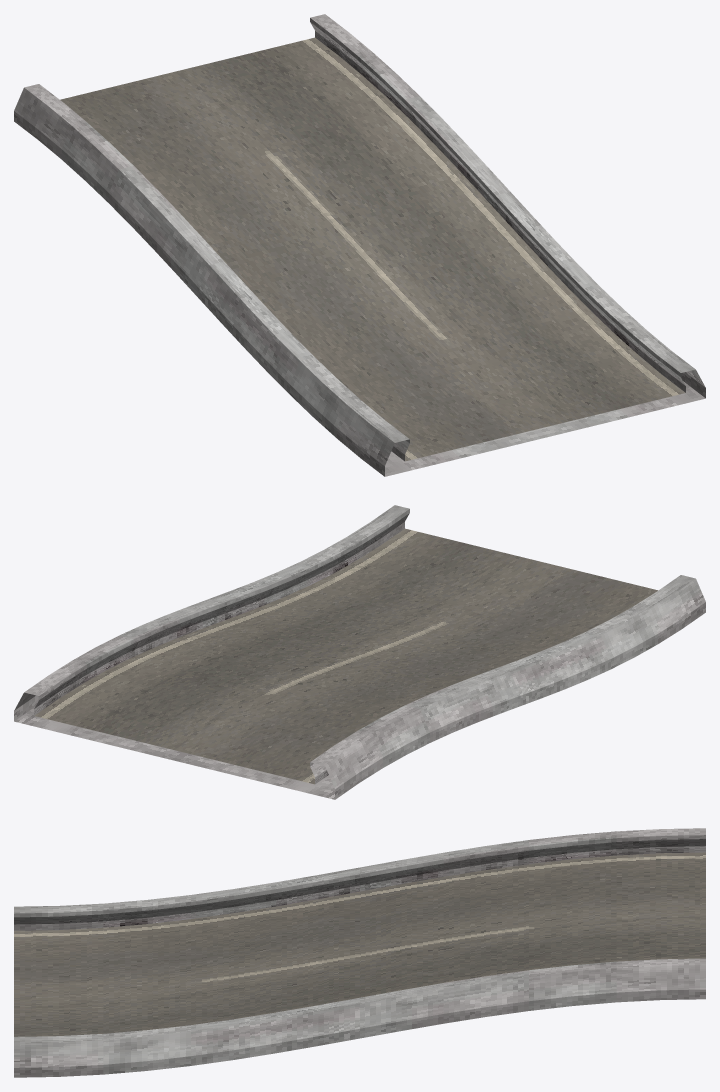
File: road-Straight-Flat-Flat-Up1-Center-Size2.glb
The picture shows the model from 3 angles, top to bottom: view 1: azimuth 30°, elevation 25°; view 2: azimuth 150°, elevation 25°; view 3: azimuth 270°, elevation 25°; orthographic projection. The views are drawn at different scales.
Visible parts, largest first — view 1: road-Straight-Flat-Flat-Up1-Center-Size2; view 2: road-Straight-Flat-Flat-Up1-Center-Size2; view 3: road-Straight-Flat-Flat-Up1-Center-Size2.
Boxes of the visible parts, x1=… form: road-Straight-Flat-Flat-Up1-Center-Size2: x1=14, y1=14, x2=705, y2=476; road-Straight-Flat-Flat-Up1-Center-Size2: x1=14, y1=505, x2=705, y2=799; road-Straight-Flat-Flat-Up1-Center-Size2: x1=14, y1=828, x2=705, y2=1077.
Size of the model in its own units: 1 by 0.3438 by 2.
2 materials, 2 textured.
